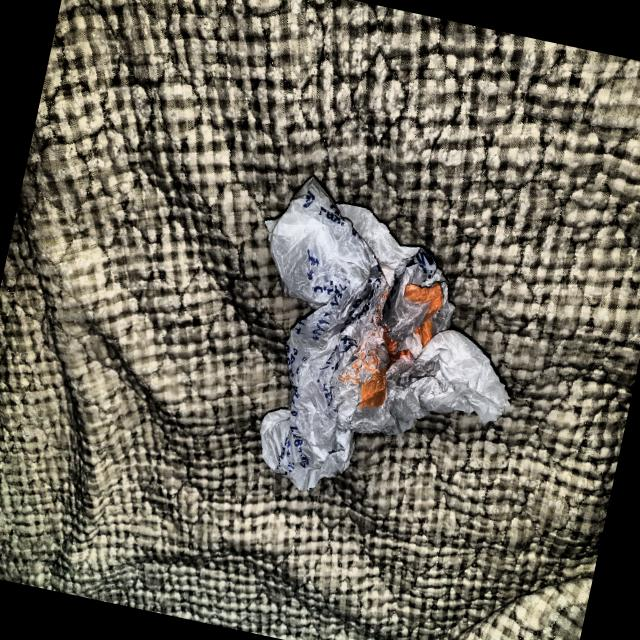plastic bag: (204, 143, 561, 542)
